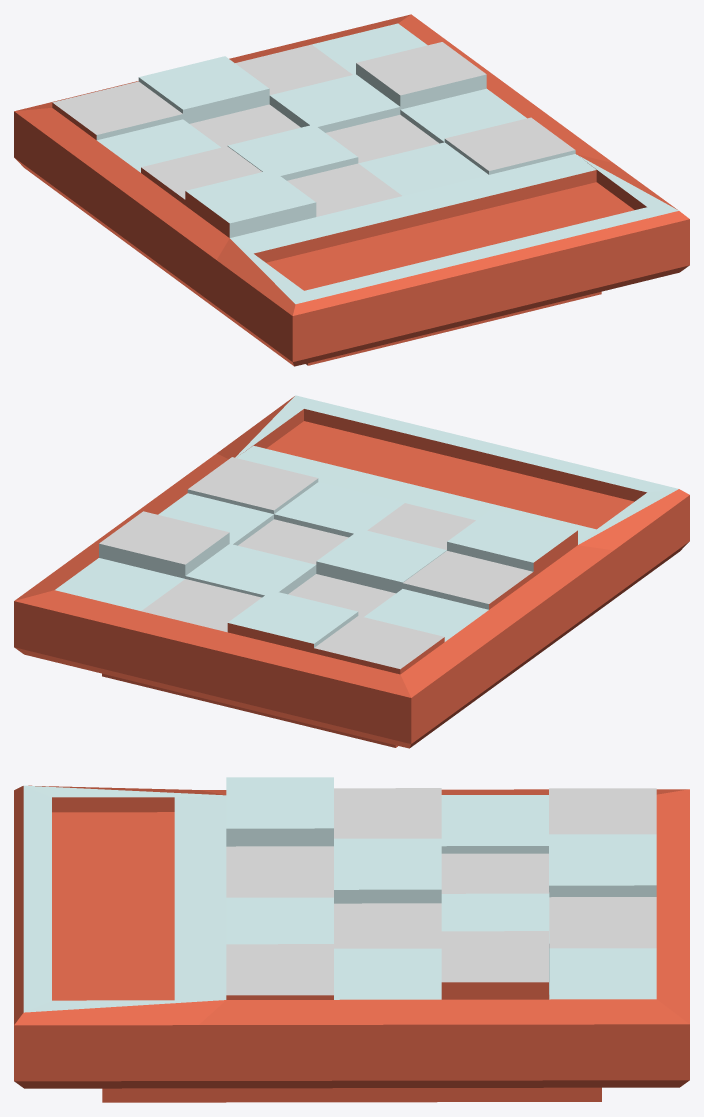
Rendered from chip.fbx.
The picture shows the model from 3 angles, top to bottom: view 1: azimuth 30°, elevation 25°; view 2: azimuth 150°, elevation 25°; view 3: azimuth 270°, elevation 25°; orthographic projection. The views are drawn at different scales.
Parts seen in each view (by area): view 1: Chip; view 2: Chip; view 3: Chip.
Boxes of the visible parts, x1,y1,x2,y2 form: Chip: (14, 14, 689, 366); Chip: (14, 395, 689, 748); Chip: (14, 777, 689, 1102).
Size of the model in its own units: 102 by 27.37 by 124.
